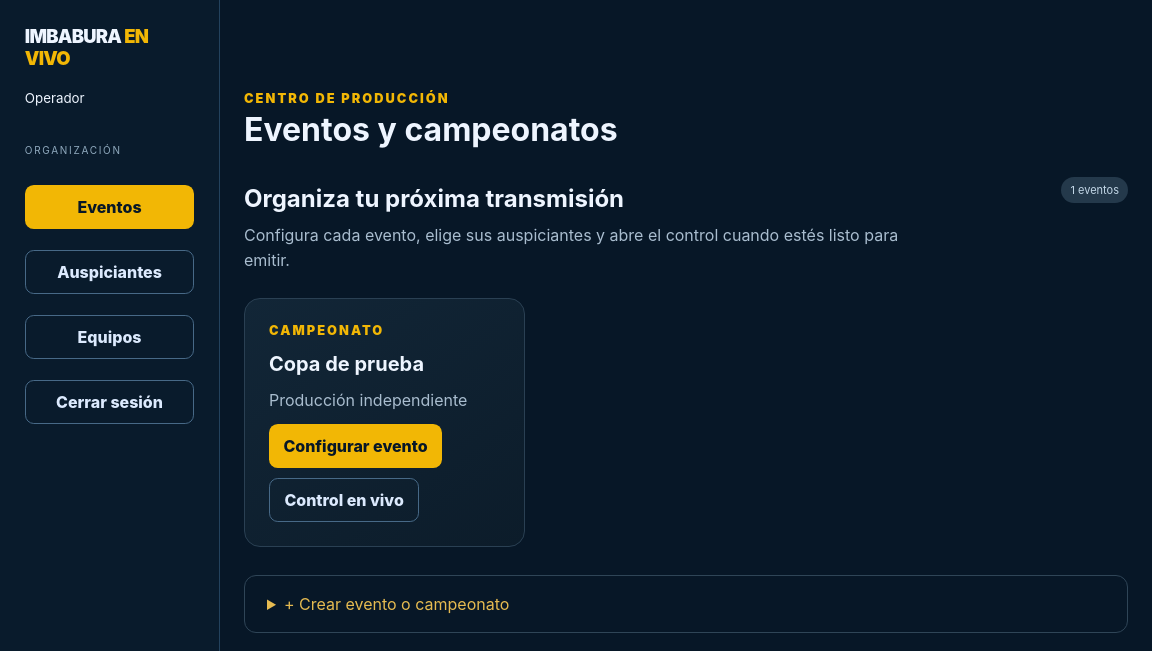
Test: la selección de auspiciantes pertenece a la configuración del evento
Click the button "Configurar evento" at (356, 446), box [269, 424, 442, 468]
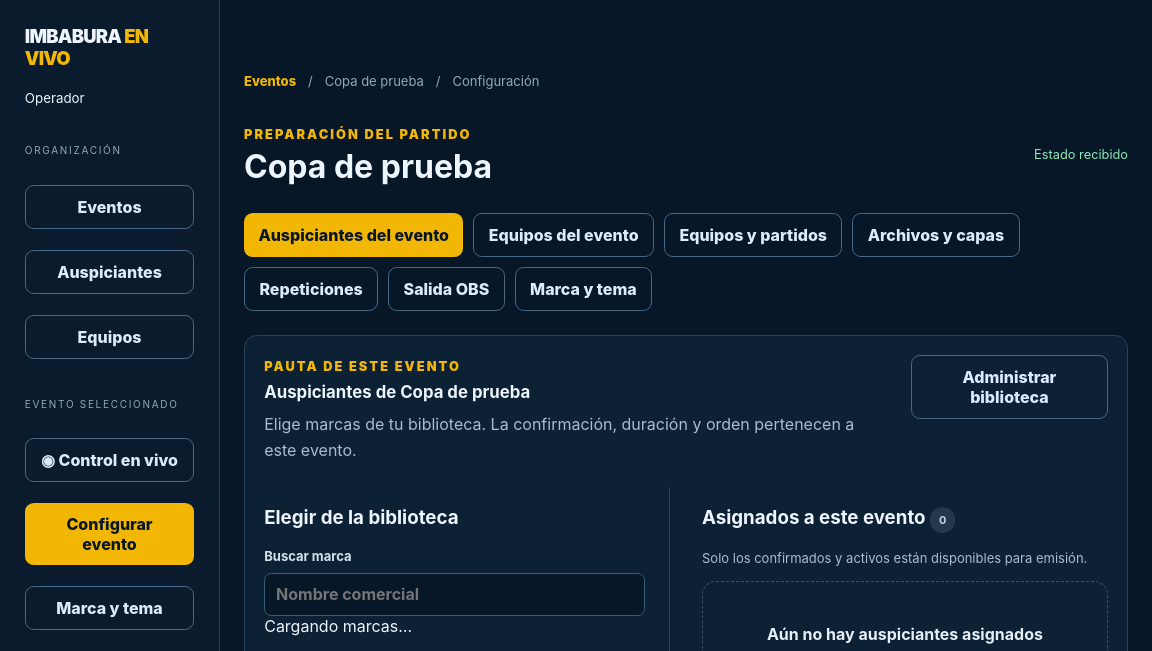
Check: the heading "Auspiciantes de Copa de prueba" is shown, box [264, 382, 530, 402]
Check: the heading "Elegir de la biblioteca" is shown, box [264, 506, 458, 529]
Click the button "Administrar biblioteca" at (1009, 387), box [911, 355, 1108, 419]
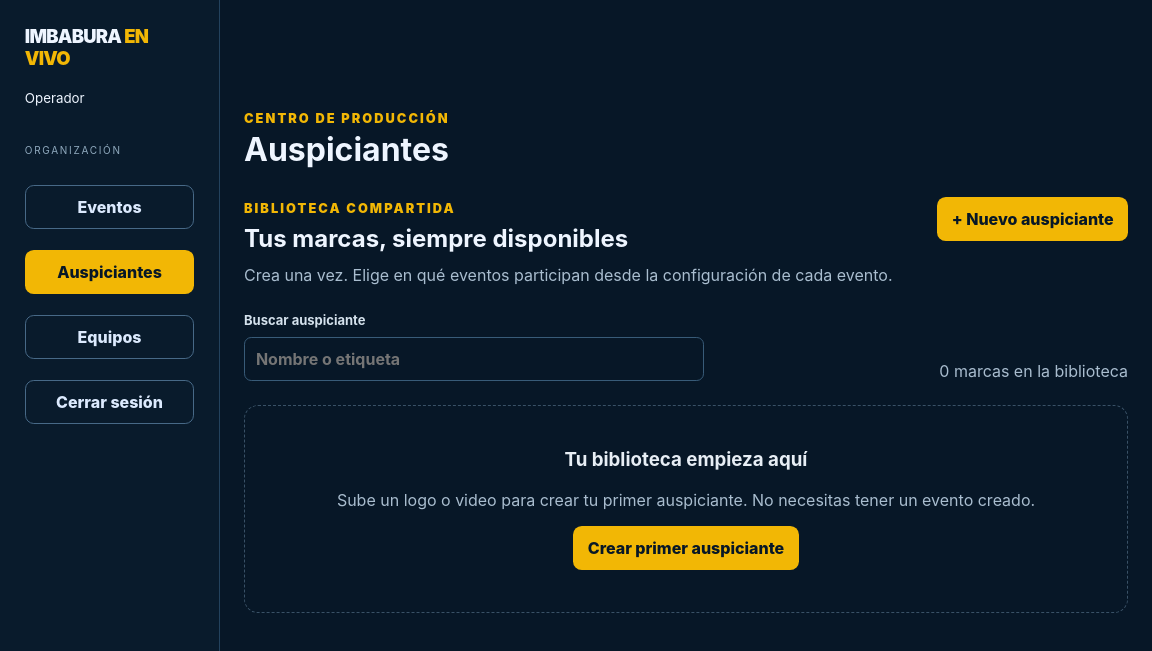
Check: the heading "Tus marcas, siempre disponibles" is shown, box [244, 224, 628, 253]
Check: the heading "Auspiciantes de Copa de prueba" is gone
